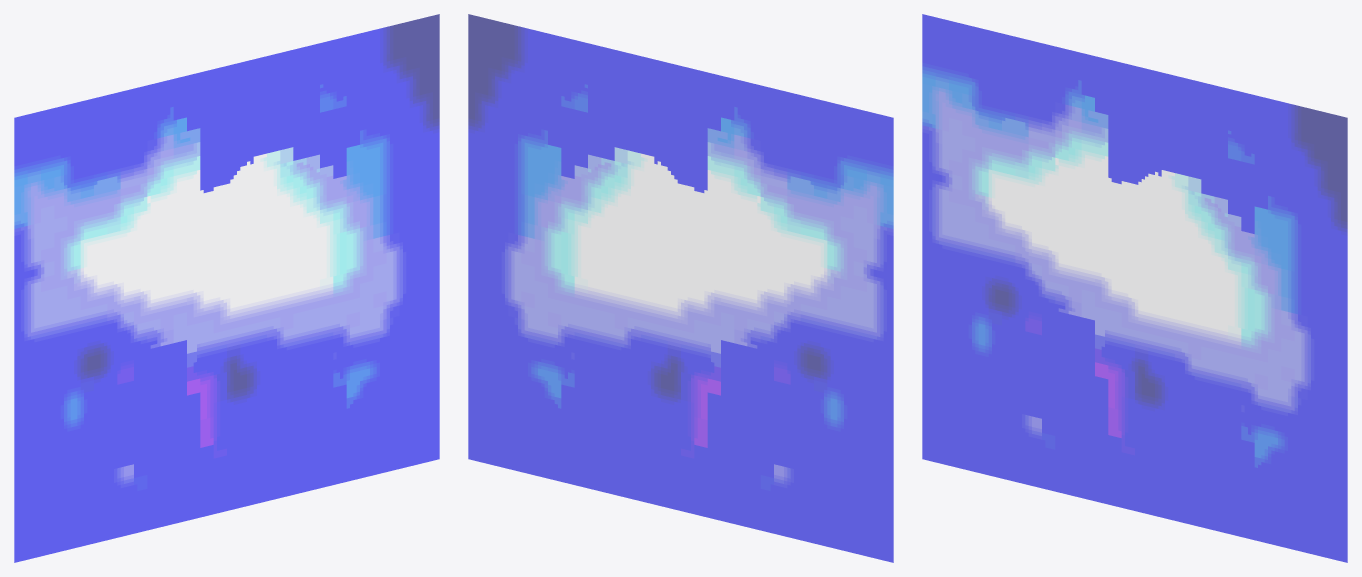
File: for_wl_r800.glb
3 views of the same model, side by side, from view 1: azimuth 30°, elevation 25°; view 2: azimuth 150°, elevation 25°; view 3: azimuth 330°, elevation 25° (orthographic).
Parts seen in each view (by area): view 1: for_wl_r800; view 2: for_wl_r800; view 3: for_wl_r800.
Part boxes in pixels (box(x1,y1,x2,y2)): for_wl_r800: box(14, 14, 439, 562); for_wl_r800: box(468, 14, 893, 562); for_wl_r800: box(922, 14, 1347, 562).
Bounding box in the file's own units: 100 × 100 × 0.
Materials: 1 (1 with a texture image).
